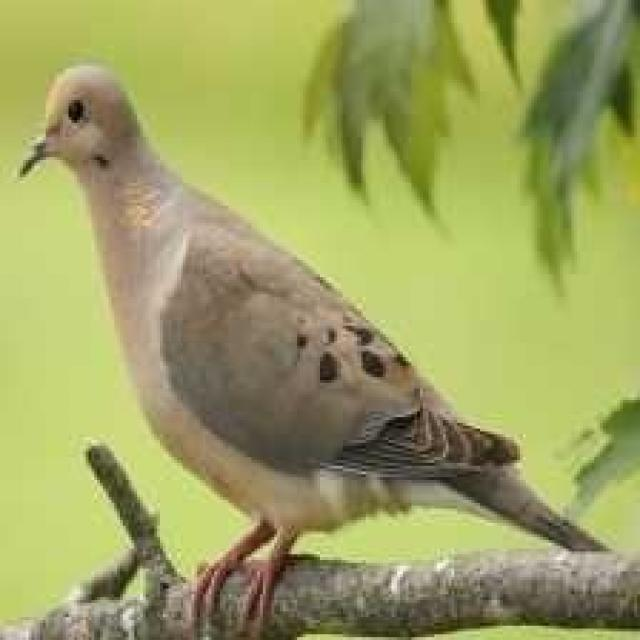bird: (14, 68, 609, 636)
